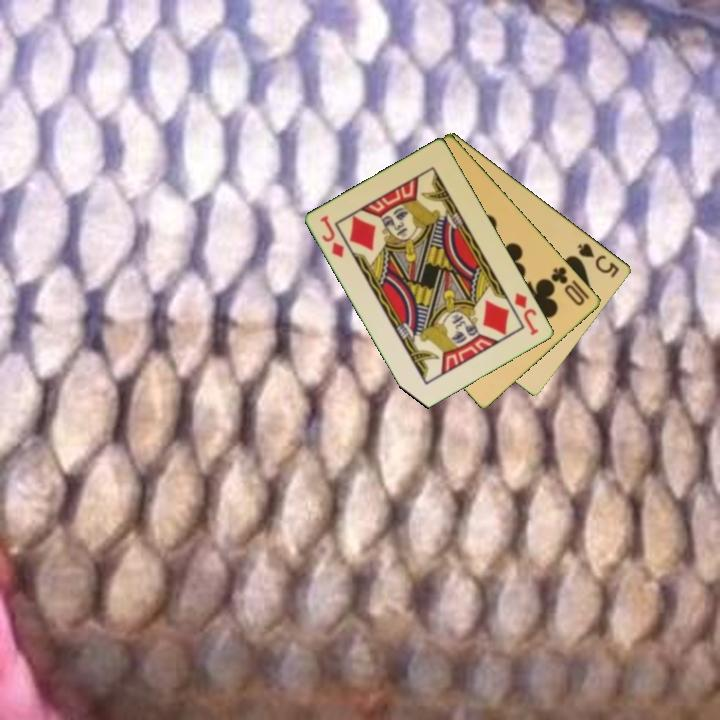10c: (547, 263, 588, 309)
5s: (574, 239, 622, 281)
Jd: (316, 212, 348, 261), (511, 289, 542, 338)
